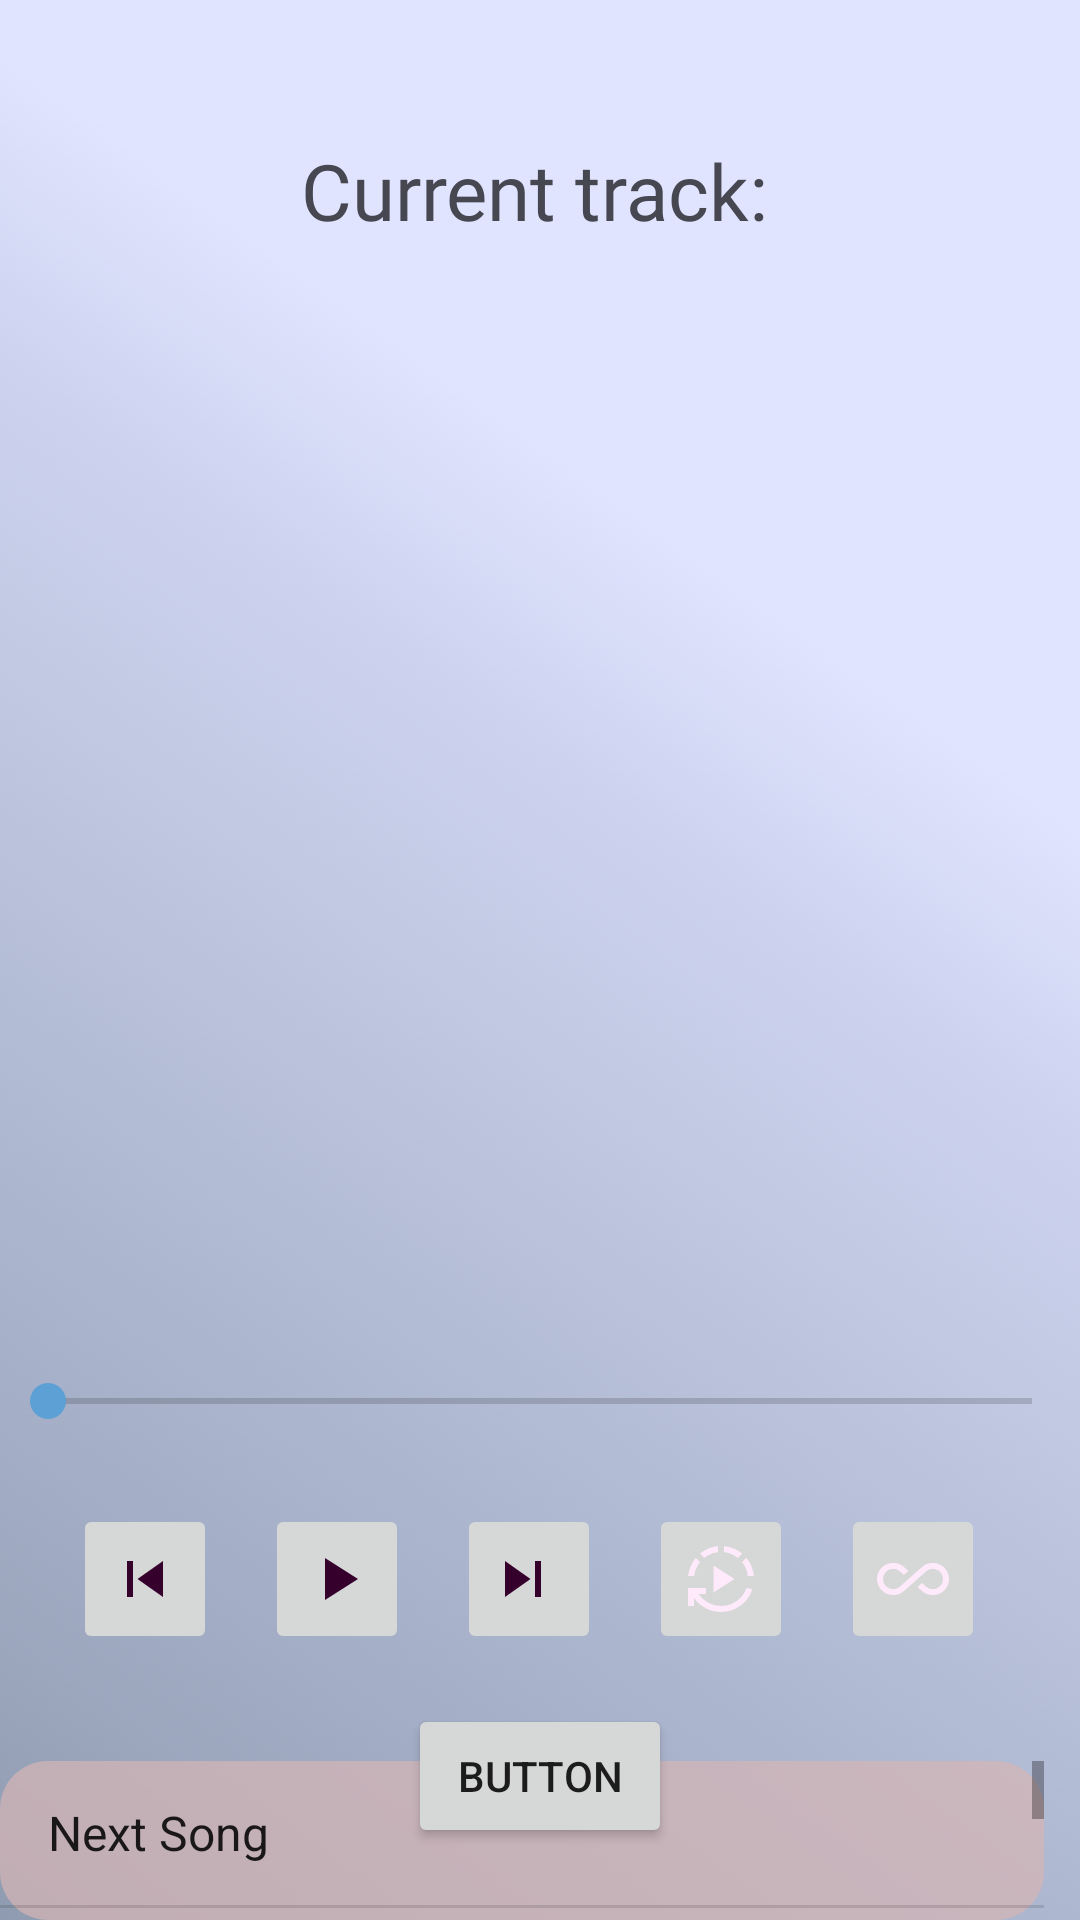

Icons on this 1080px x 1920px Android screen, each with the point to tap as [x,y]:
Next track: [529,1579]
Play or pause track: [337,1579]
Previous track: [145,1579]
